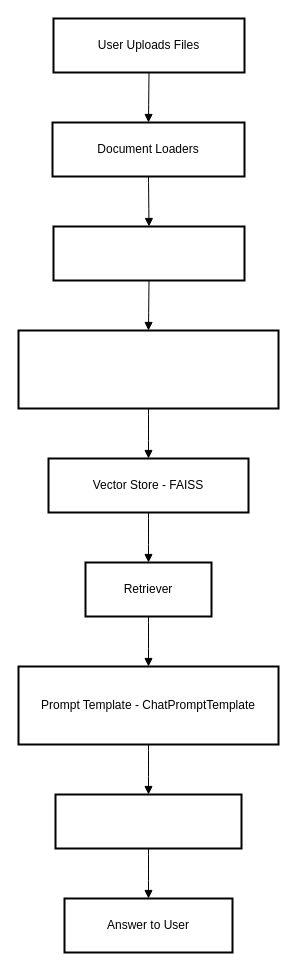
The diagram is 296 pixels wide and 970 high, and some of its shapes have lost their labels. The centre of each missing label's shape, as x and y in pixels:
Document Splitter: point (148, 253)
Embeddings - Ollama Embeddings: point (148, 369)
LLM - ChatOllama: point (148, 821)
